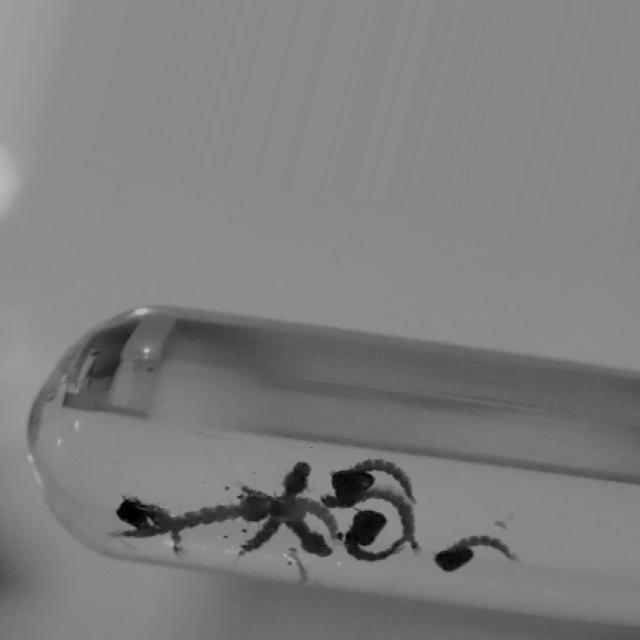larvas: (102, 487, 267, 574), (231, 472, 342, 584), (231, 445, 330, 561), (428, 521, 555, 604), (322, 452, 441, 528), (337, 497, 415, 584), (112, 482, 194, 558)
